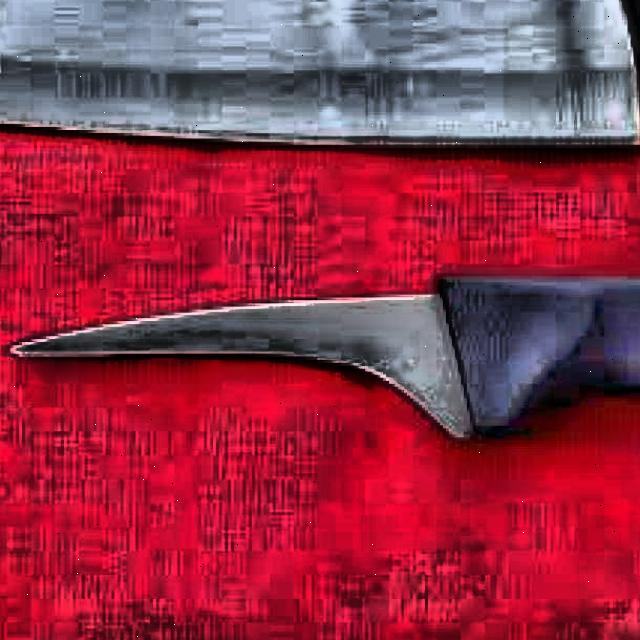knife: (10, 272, 640, 438)
